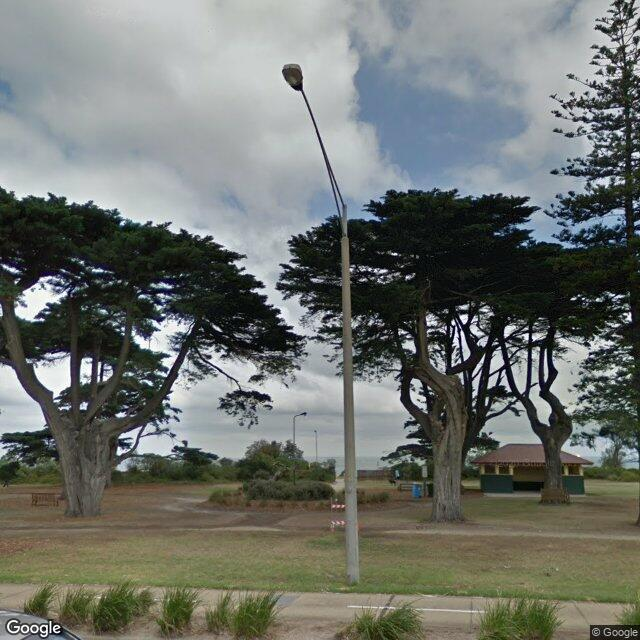steel-pole: (343, 204, 359, 582), (293, 417, 296, 444), (316, 433, 317, 460)
streetlight: (282, 63, 348, 236), (295, 412, 307, 418), (313, 430, 317, 433)
